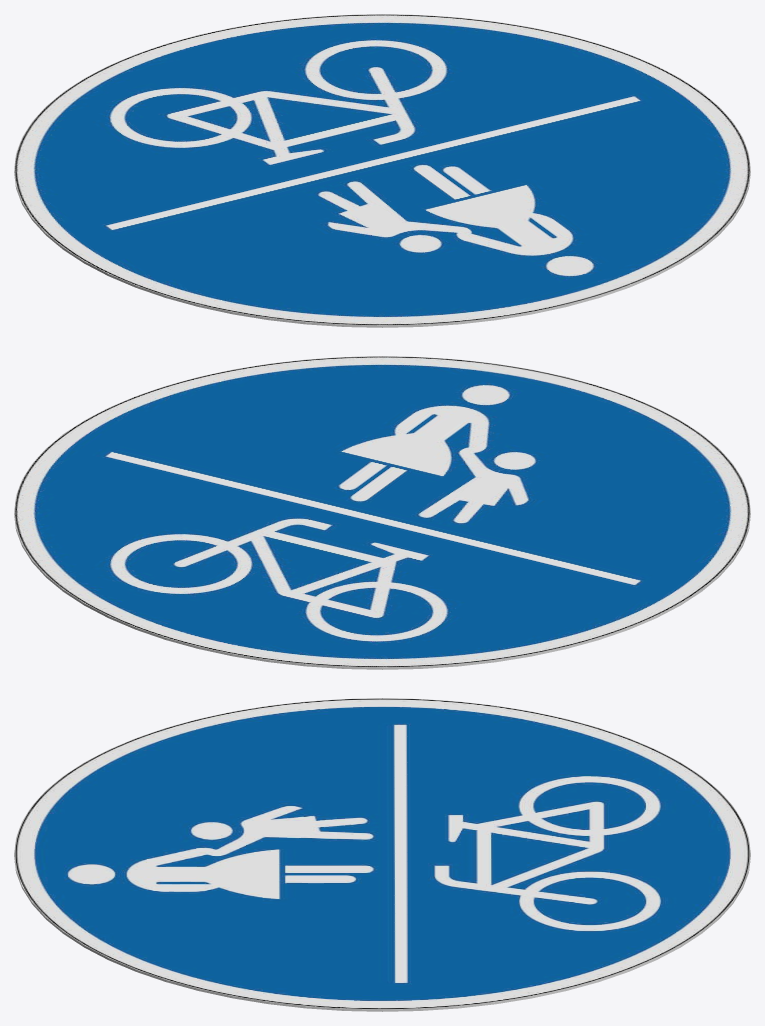
File: rund_600.obj
3 views of the same model, one above another, from view 1: azimuth 30°, elevation 25°; view 2: azimuth 150°, elevation 25°; view 3: azimuth 270°, elevation 25° (orthographic).
Parts seen in each view (by area): view 1: Circle_Schild_Rund; view 2: Circle_Schild_Rund; view 3: Circle_Schild_Rund.
Part boxes in pixels (bbox=[...]): Circle_Schild_Rund: bbox=[14, 14, 750, 327]; Circle_Schild_Rund: bbox=[14, 356, 750, 669]; Circle_Schild_Rund: bbox=[14, 698, 750, 1011].
Bounding box in the file's own units: 0.6 × 0.002 × 0.6.
1 material, 1 textured.
